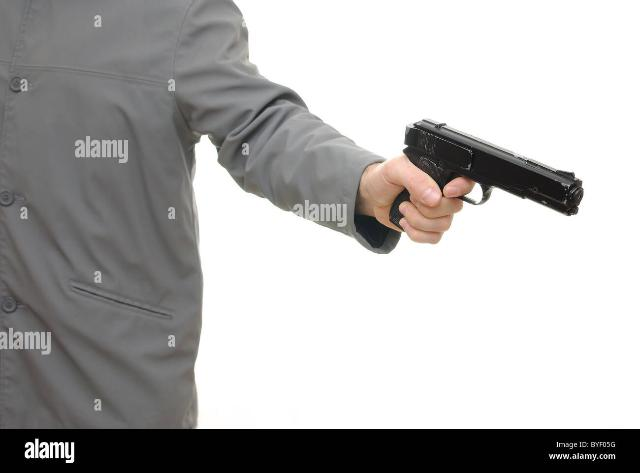handgun: (384, 113, 588, 237)
